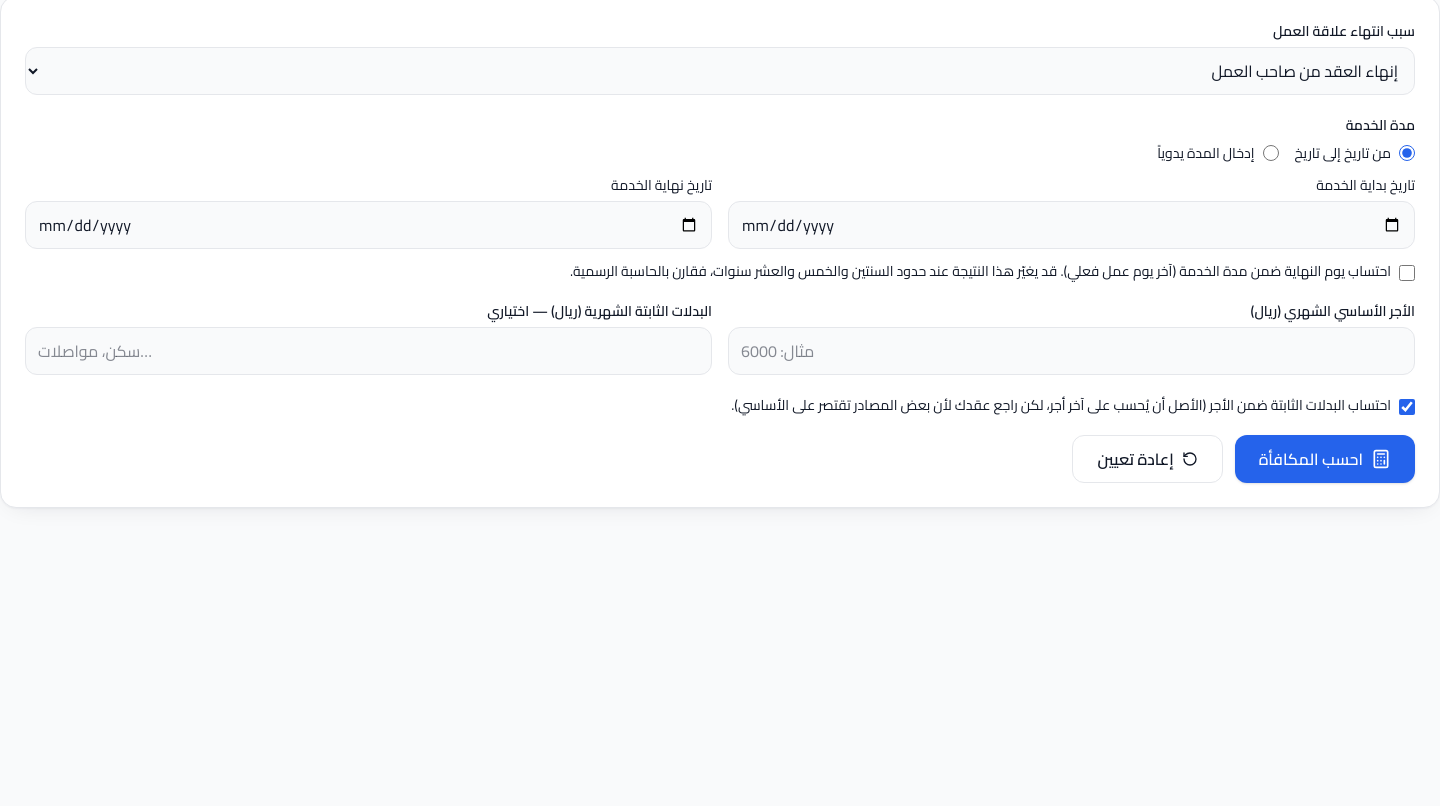
Test: EosCalculator › computes from dates
Step 1. Type "2018-01-01" into the date field labelled "تاريخ بداية الخدمة" → (1072, 225), box [728,201,1415,249]
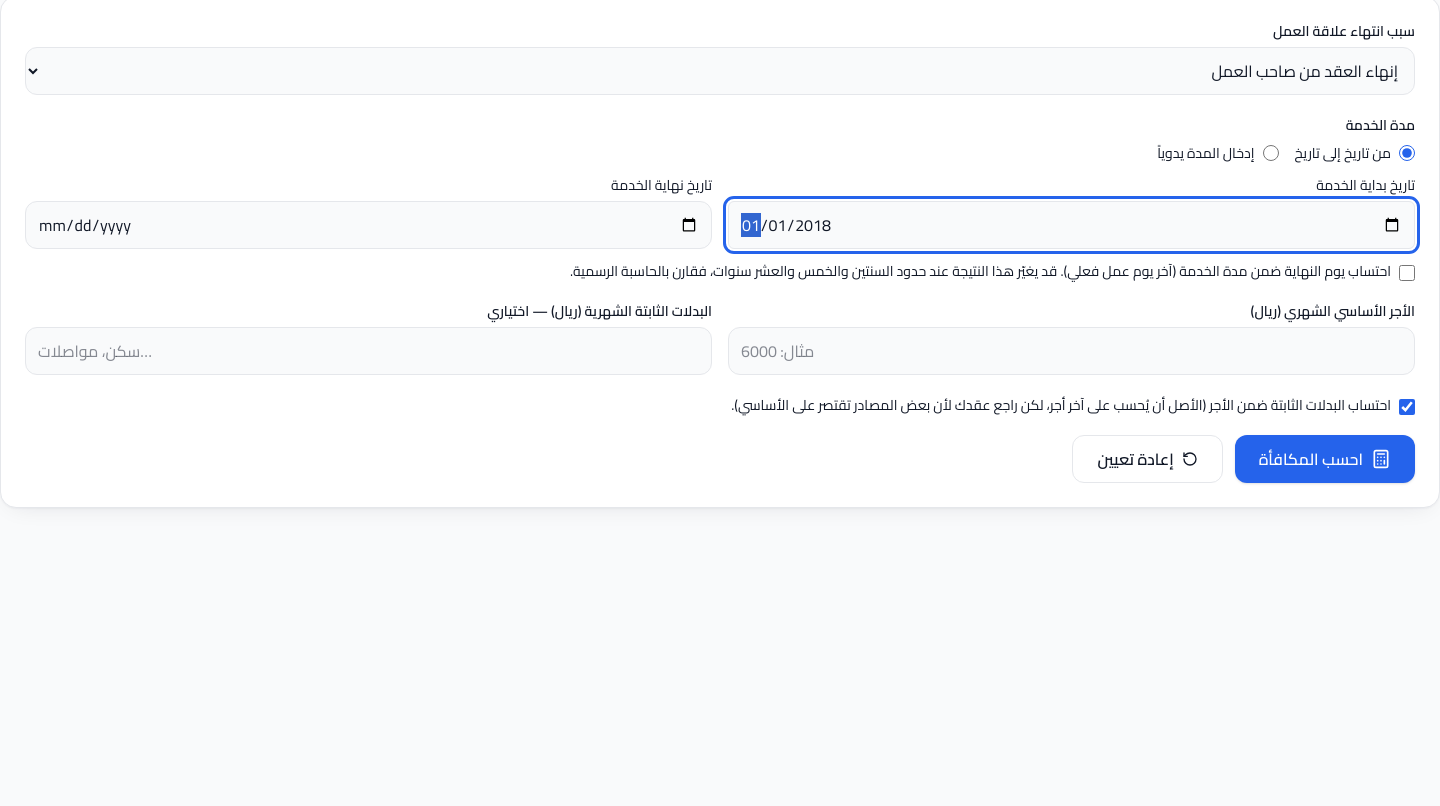
Step 2. Type "2024-01-01" into the date field labelled "تاريخ نهاية الخدمة" → (368, 225), box [25,201,712,249]
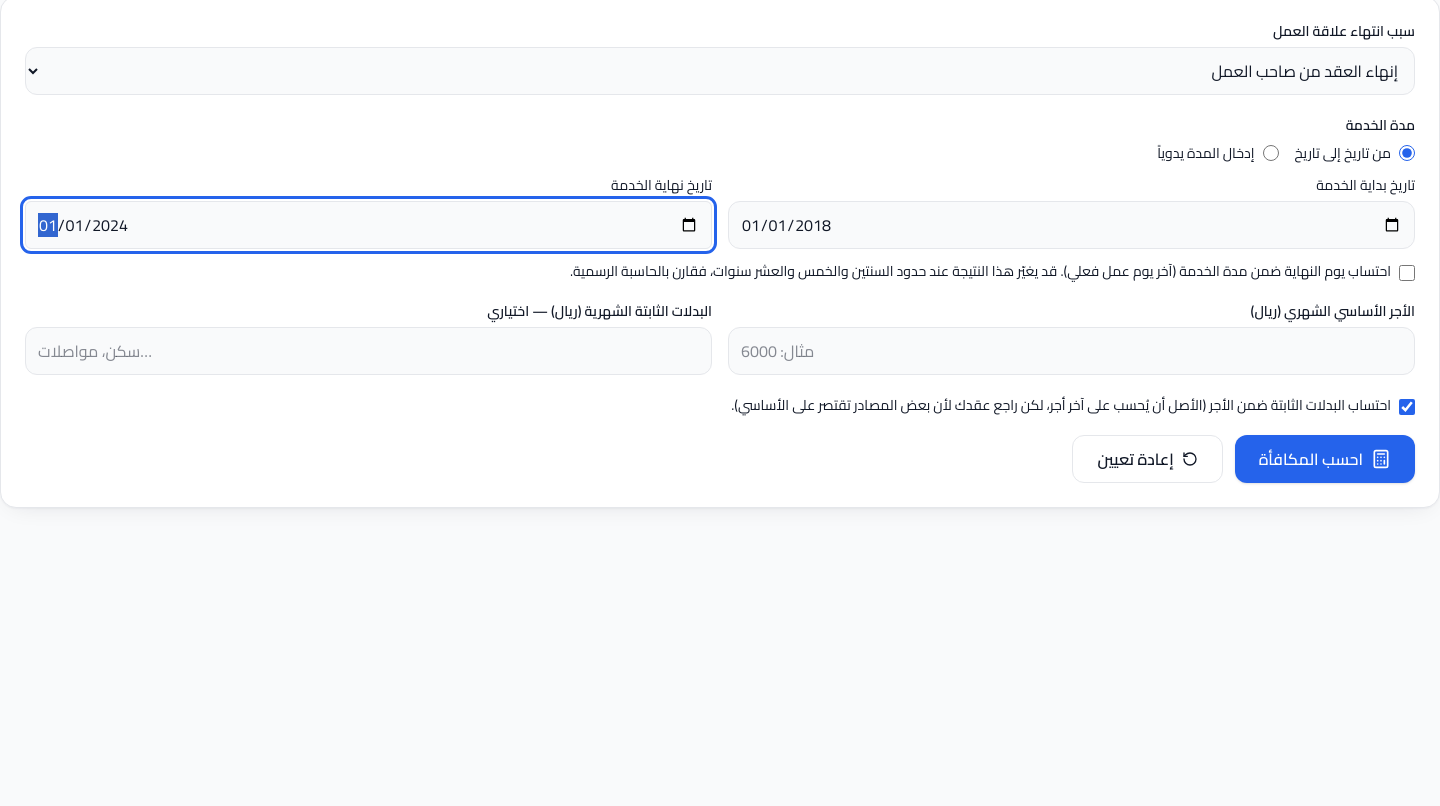
Step 3. Type "6000" into the field labelled "الأجر الأساسي الشهري (ريال)" → (1072, 351), box [728,327,1415,375]
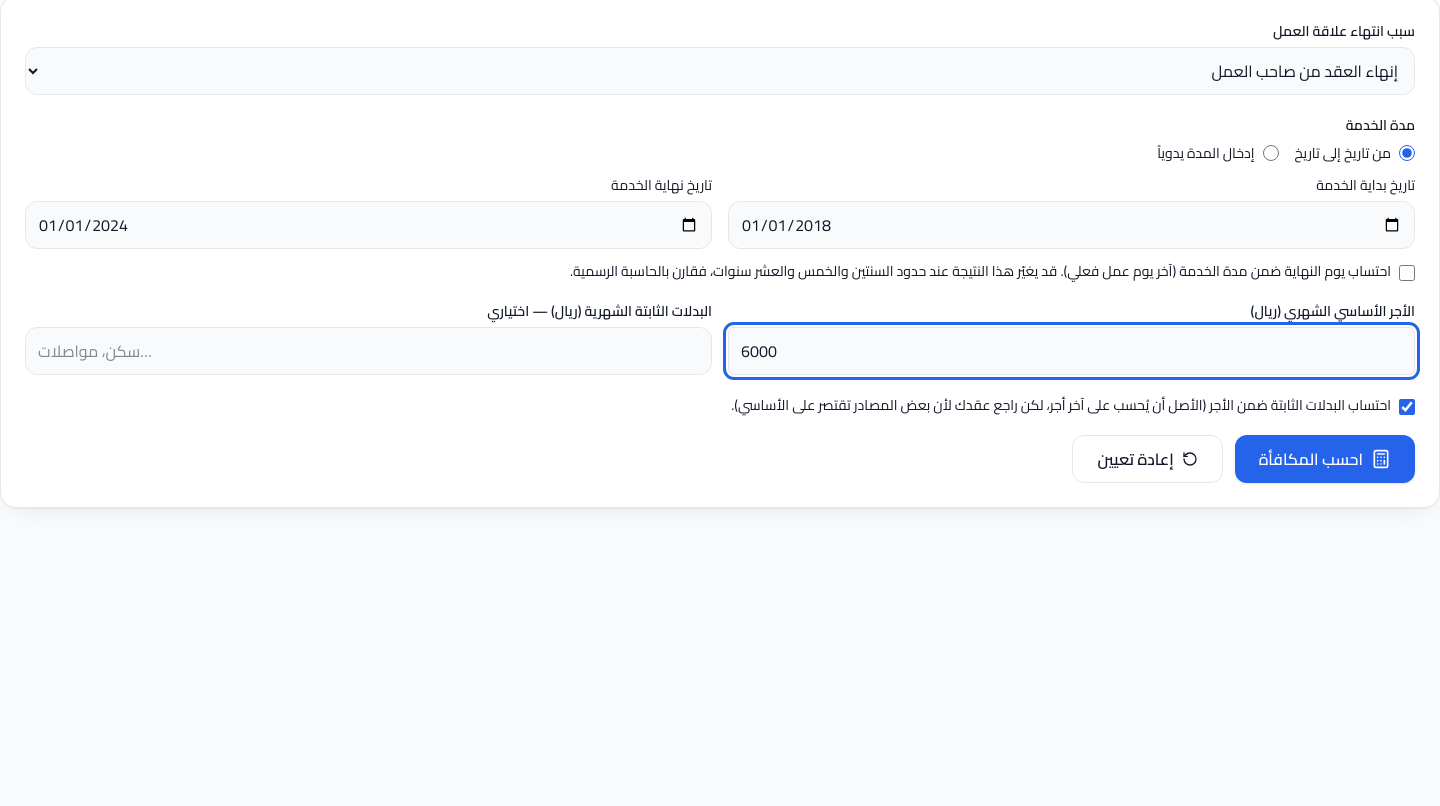
Step 4. Click the button "احسب المكافأة" → (1325, 459), box [1235,435,1415,483]
(page scrolled)
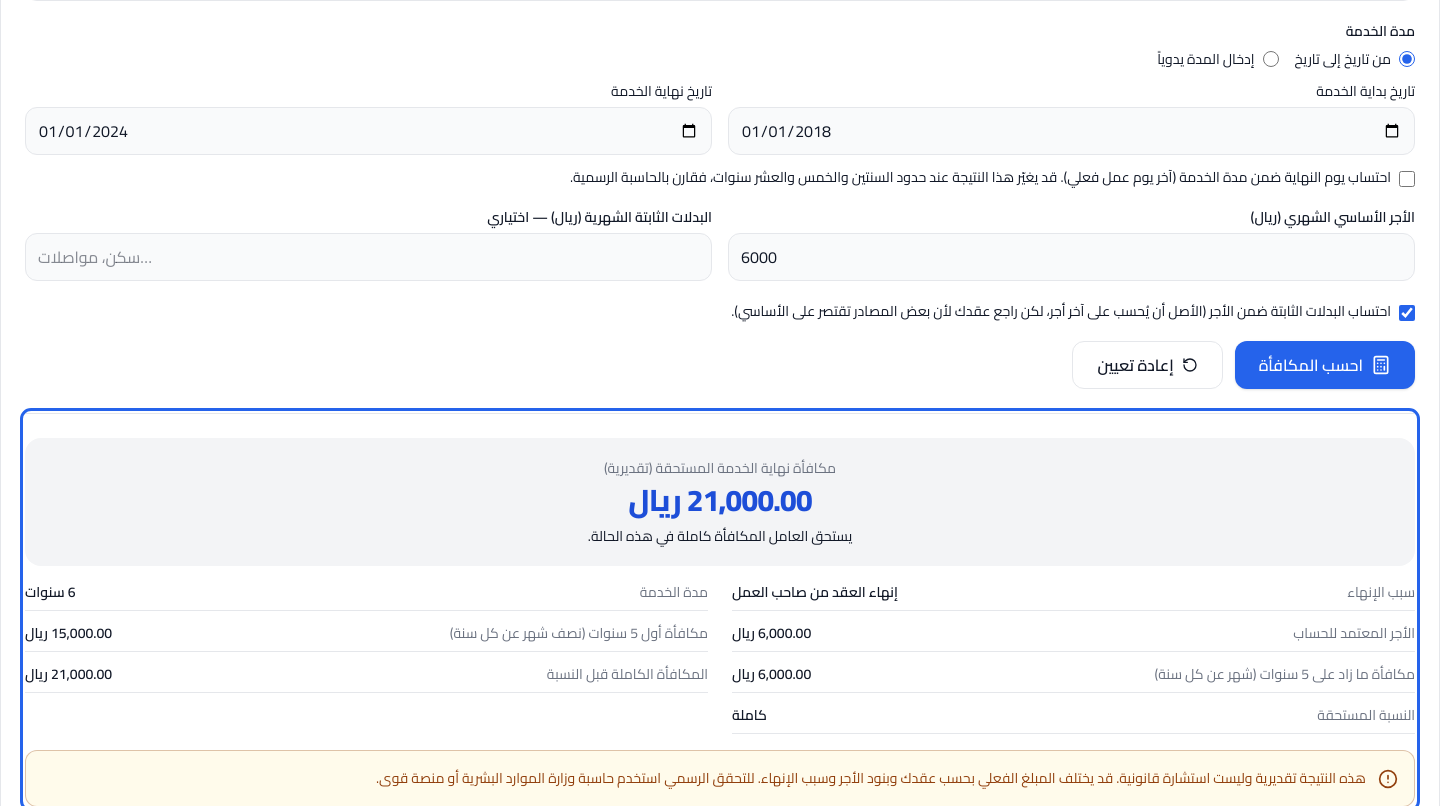
Expected: the text with test id "eos-total" reads "21,000.00 ريال", [628,472,812,528]
